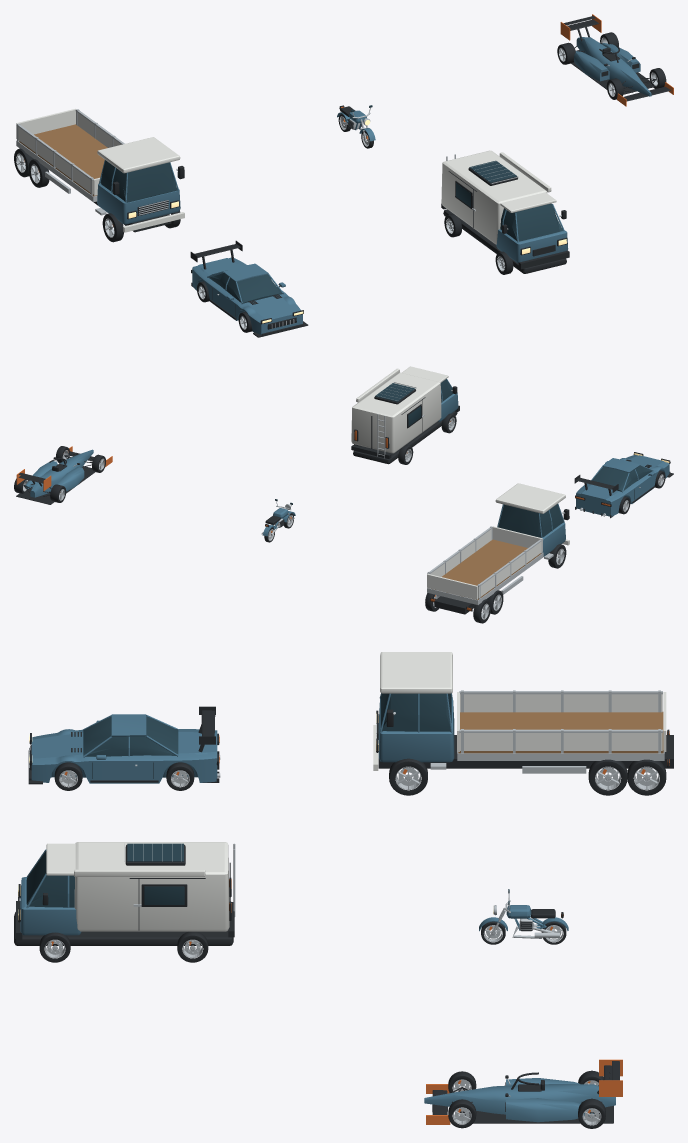
File: transport-collection-hd-land-collection-2-0186ddd9__18745.glb
3 views of the same model, one above another, from view 1: azimuth 30°, elevation 25°; view 2: azimuth 150°, elevation 25°; view 3: azimuth 270°, elevation 25° (orthographic). The views are drawn at different scales.
Parts seen in each view (by area): view 1: 004-expedition-camper-van/1, 000-flatbed-truck/3, 003-track-coupe/0, 004-expedition-camper-van/3, 002-open-wheel-racer/0, 000-flatbed-truck/5, 000-flatbed-truck/2, 004-expedition-camper-van/0, 000-flatbed-truck/4, 000-flatbed-truck/1, 004-expedition-camper-van/2, 002-open-wheel-racer/1 (+4 smaller); view 2: 004-expedition-camper-van/1, 000-flatbed-truck/3, 003-track-coupe/0, 000-flatbed-truck/5, 000-flatbed-truck/4, 000-flatbed-truck/2, 002-open-wheel-racer/0, 004-expedition-camper-van/0, 002-open-wheel-racer/1, 003-track-coupe/1, 004-expedition-camper-van/3, 000-flatbed-truck/tailgate (+2 smaller); view 3: 004-expedition-camper-van/1, 000-flatbed-truck/3, 003-track-coupe/0, 002-open-wheel-racer/0, 000-flatbed-truck/4, 000-flatbed-truck/5, 004-expedition-camper-van/0, 004-expedition-camper-van/3, 000-flatbed-truck/1, 003-track-coupe/1, 000-flatbed-truck/2, 004-expedition-camper-van/2 (+8 smaller).
Boxes of the visible parts, x1,y1,x2,y2 form: 004-expedition-camper-van/1: (441, 150, 556, 244); 000-flatbed-truck/3: (16, 111, 184, 232); 003-track-coupe/0: (192, 257, 302, 334); 004-expedition-camper-van/3: (456, 160, 562, 241); 002-open-wheel-racer/0: (574, 37, 651, 96); 000-flatbed-truck/5: (19, 124, 107, 196); 000-flatbed-truck/2: (100, 160, 177, 202); 004-expedition-camper-van/0: (441, 168, 569, 273); 000-flatbed-truck/4: (16, 109, 177, 215); 000-flatbed-truck/1: (97, 160, 180, 224); 004-expedition-camper-van/2: (496, 204, 568, 263); 002-open-wheel-racer/1: (563, 16, 670, 101); 004-expedition-camper-van/1: (351, 366, 448, 453); 000-flatbed-truck/3: (431, 483, 569, 598); 003-track-coupe/0: (576, 455, 669, 516); 000-flatbed-truck/5: (432, 539, 540, 600); 000-flatbed-truck/4: (427, 512, 564, 604); 000-flatbed-truck/2: (498, 504, 563, 537); 002-open-wheel-racer/0: (25, 449, 93, 497); 004-expedition-camper-van/0: (351, 386, 459, 464); 002-open-wheel-racer/1: (16, 451, 104, 504); 003-track-coupe/1: (592, 466, 651, 491); 004-expedition-camper-van/3: (375, 379, 452, 426); 000-flatbed-truck/tailgate: (427, 574, 477, 599); 004-expedition-camper-van/1: (46, 842, 229, 931); 000-flatbed-truck/3: (373, 652, 662, 770); 003-track-coupe/0: (31, 714, 217, 783); 002-open-wheel-racer/0: (424, 1078, 615, 1122); 000-flatbed-truck/4: (376, 690, 664, 773); 000-flatbed-truck/5: (458, 712, 663, 753); 004-expedition-camper-van/0: (14, 844, 234, 945); 004-expedition-camper-van/3: (26, 843, 184, 907); 000-flatbed-truck/1: (378, 693, 454, 762); 003-track-coupe/1: (83, 716, 178, 756); 000-flatbed-truck/2: (380, 693, 451, 731); 004-expedition-camper-van/2: (20, 849, 81, 935).
Bounding box in the file's own units: 22.39 × 2.91 × 16.54.
